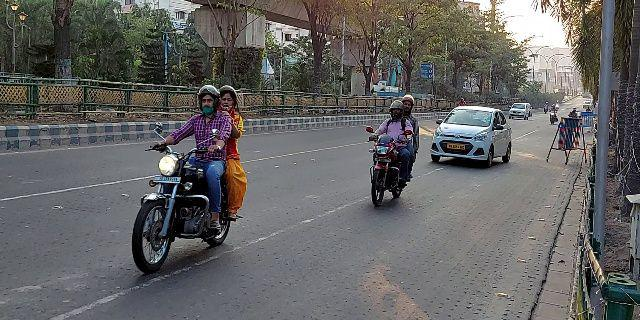Car: (428, 103, 515, 171), (506, 101, 533, 122)
Motorbike: (128, 81, 250, 278), (363, 90, 420, 211)
